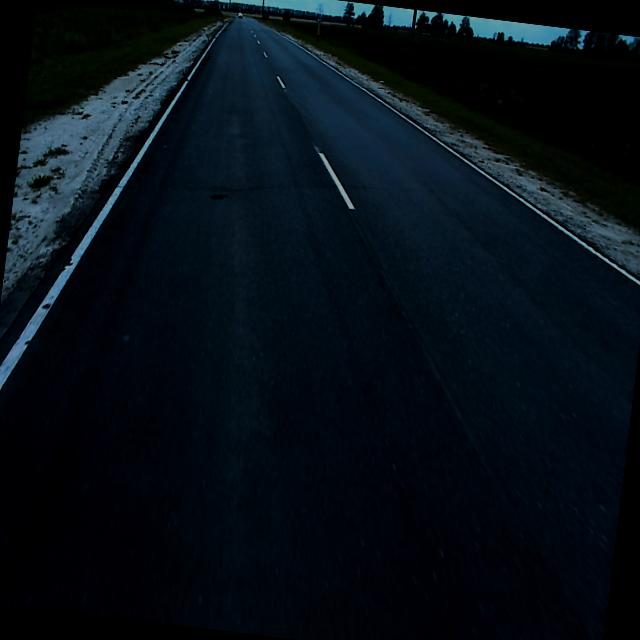road: (0, 16, 640, 640)
